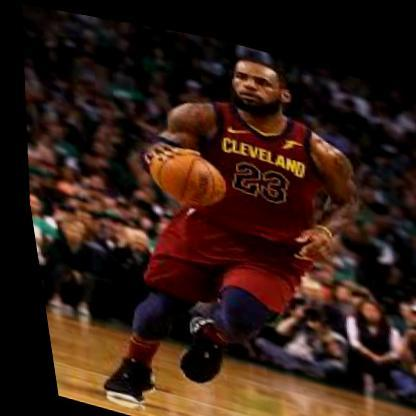basketball: (139, 135, 226, 206)
